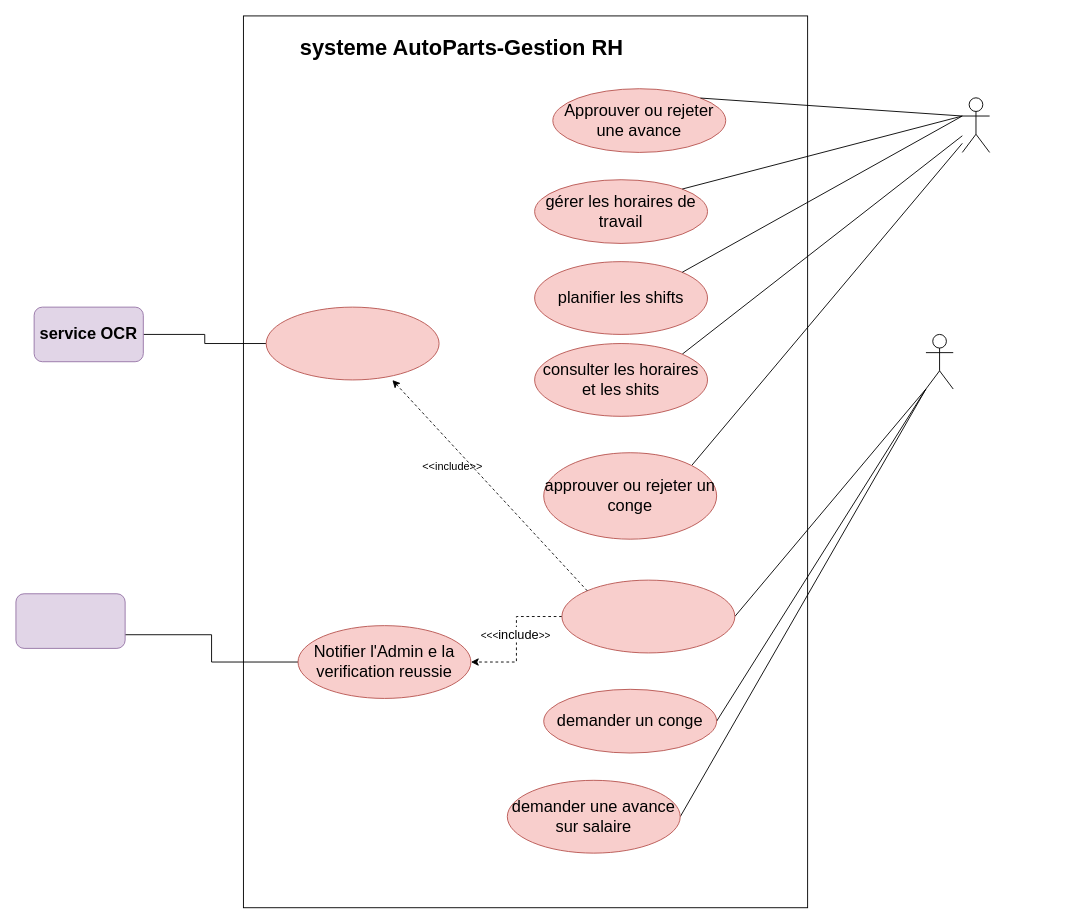
This 1069x924 diagram has some shape labels left out. The shapes that lost their labels are listed below. From the top down, each one's box as (x1, y1, x2, y2) in pixels, then its label:
(961, 97, 990, 152): Administrateur
(265, 306, 439, 380): Extraire le numéro de CIN
(925, 334, 953, 389): Employé
(15, 593, 125, 648): Service Webocket
(561, 579, 735, 653): vérifier son identité par cin
